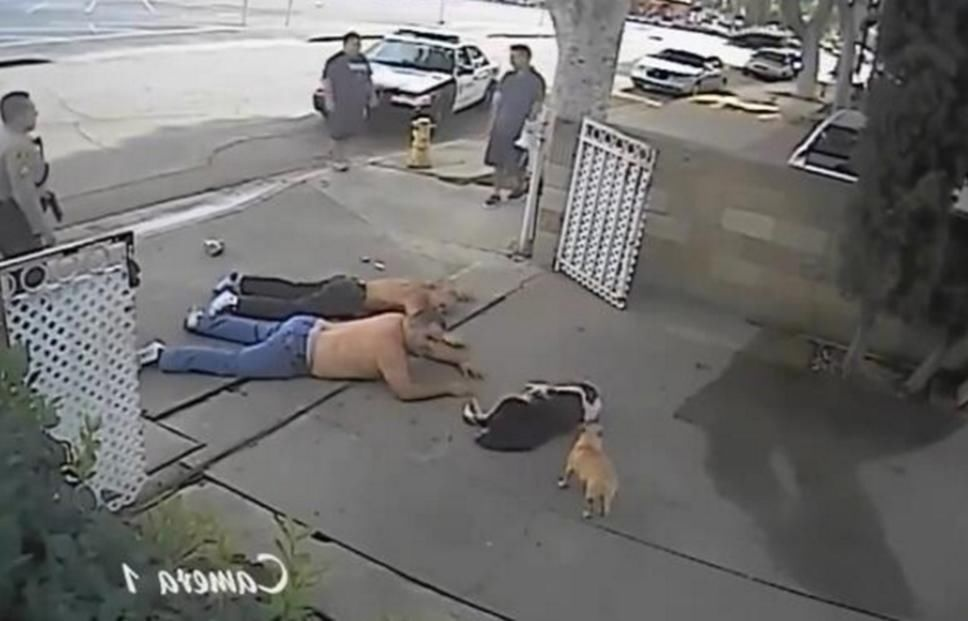falling: (199, 255, 471, 325)
